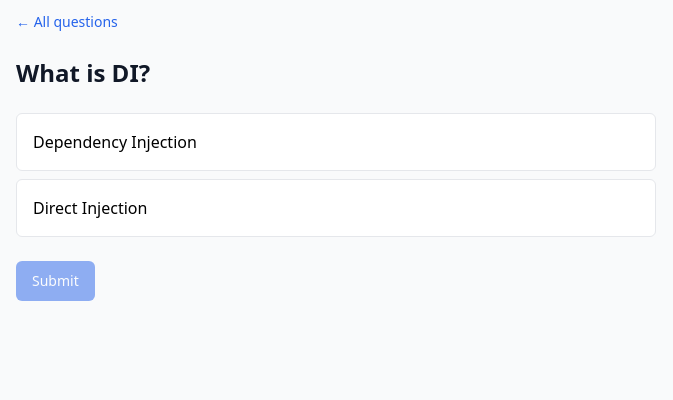
Test: QuestionPage › highlights the chosen answer green and shows description when correct
Click the button "Dependency Injection": point(115, 142) [16,113,656,171]
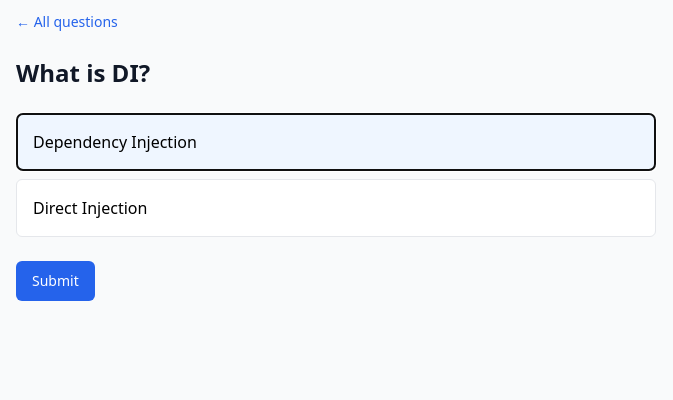
Click the button "Submit": point(55, 281) [16,261,95,301]
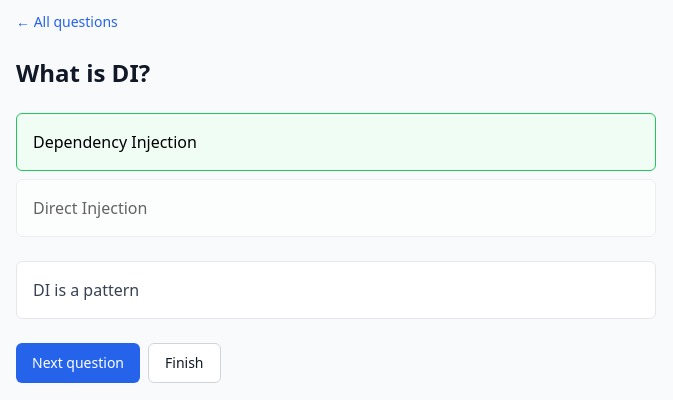
expect the text "DI is a pattern" is shown: met, box [16,261,656,319]
expect the button "Submit" is gone: met
expect the button "Next question" is shown: met, box [16,343,140,383]
